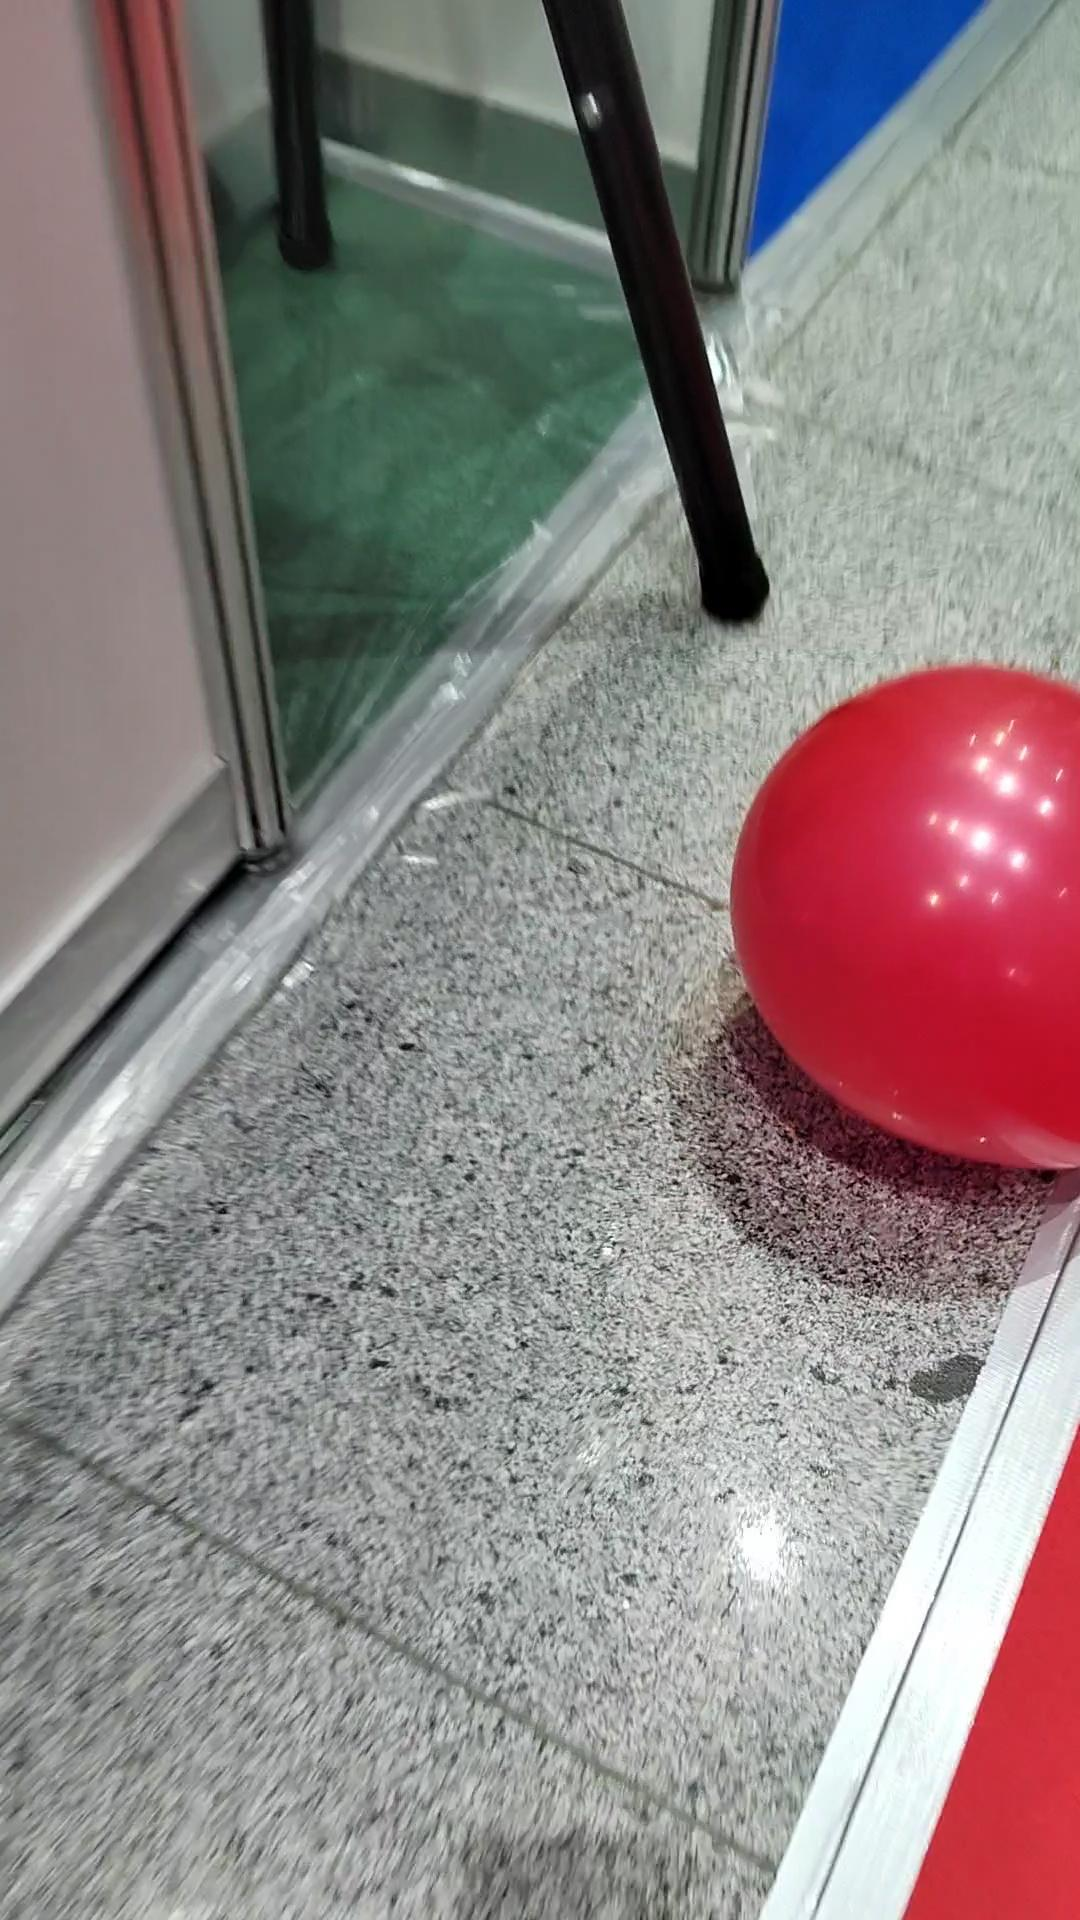red: (713, 650, 1080, 1179)
